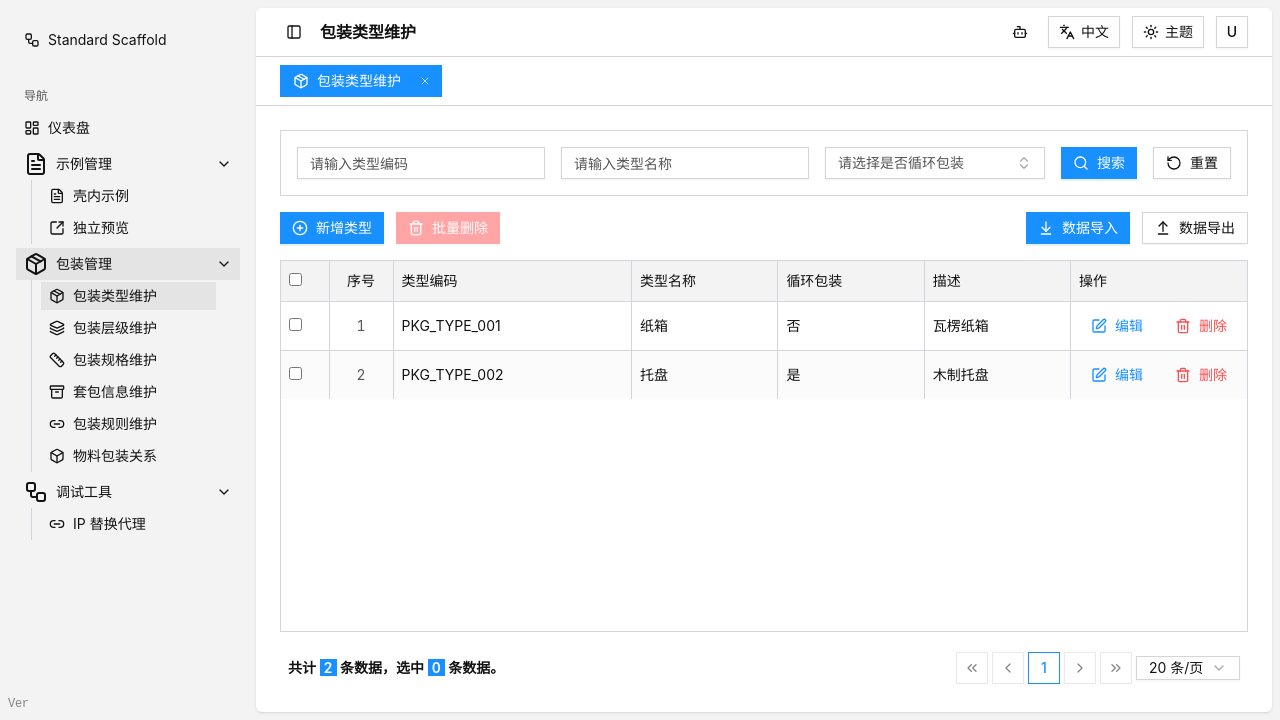
PackagingTypePage › opens the import dialog when clicking the import button
The image size is (1280, 720).
Check: the text "纸箱" is shown, box [632,301,778,350]
Click the button "数据导入" at (1078, 228), box [1026,212,1130,244]
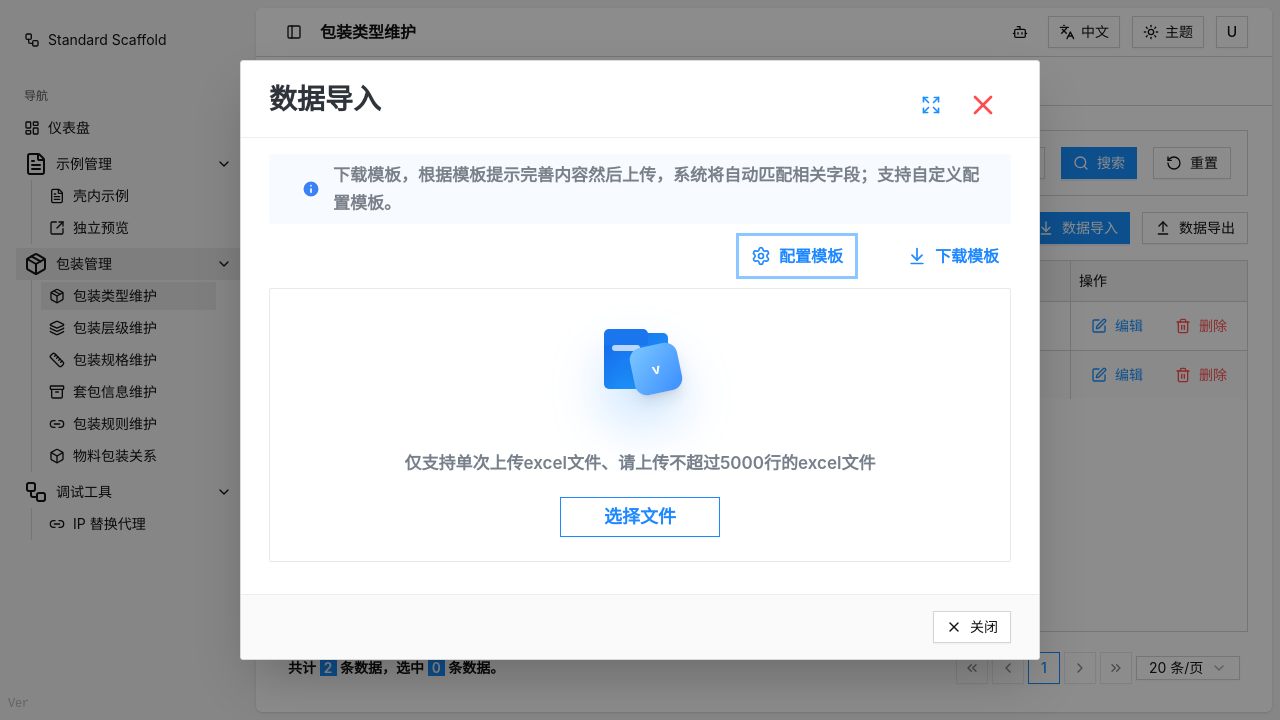
Check: the dialog with test id "data-import-dialog" is shown, box [240,60,1040,660]
